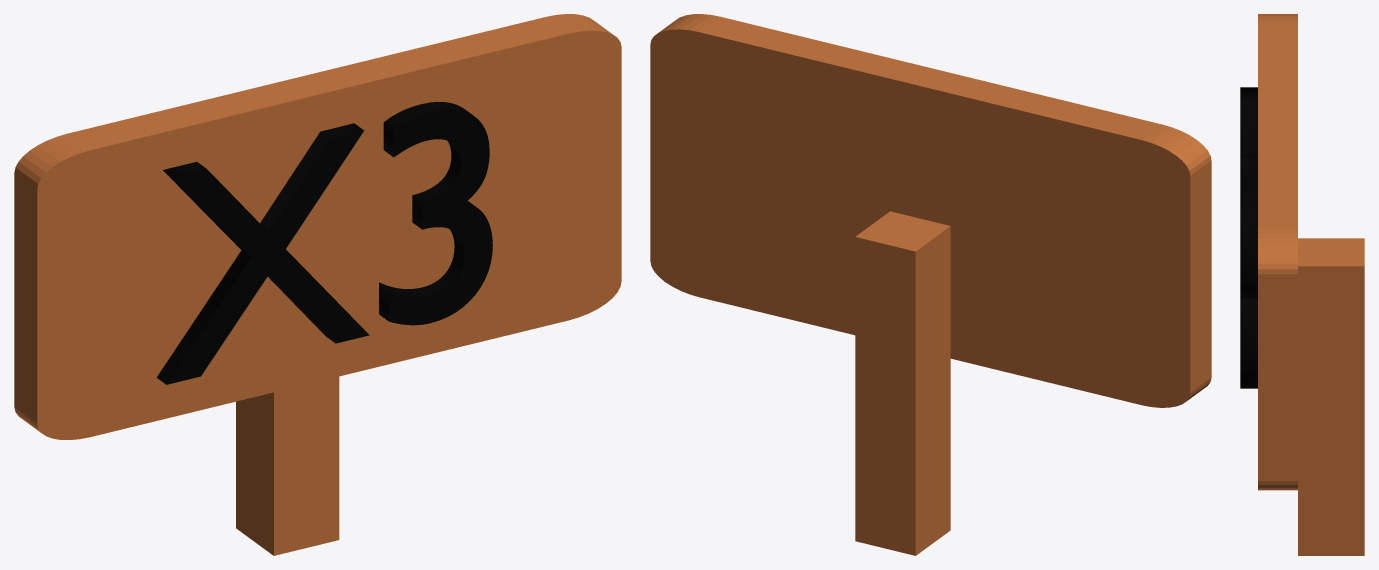
File: End Score Sign X3.fbx
The picture shows the model from 3 angles, left to right: view 1: azimuth 30°, elevation 25°; view 2: azimuth 150°, elevation 25°; view 3: azimuth 270°, elevation 25°; orthographic projection. The views are drawn at different scales.
Parts seen in each view (by area): view 1: Sign X3, Text.001; view 2: Sign X3; view 3: Sign X3, Text.001.
Boxes of the visible parts, x1,y1,x2,y2 form: Sign X3: [14, 14, 621, 555]; Text.001: [157, 102, 492, 384]; Sign X3: [650, 14, 1211, 555]; Sign X3: [1258, 14, 1364, 555]; Text.001: [1240, 87, 1257, 388].
Size of the model in its own units: 595 by 460 by 124.
